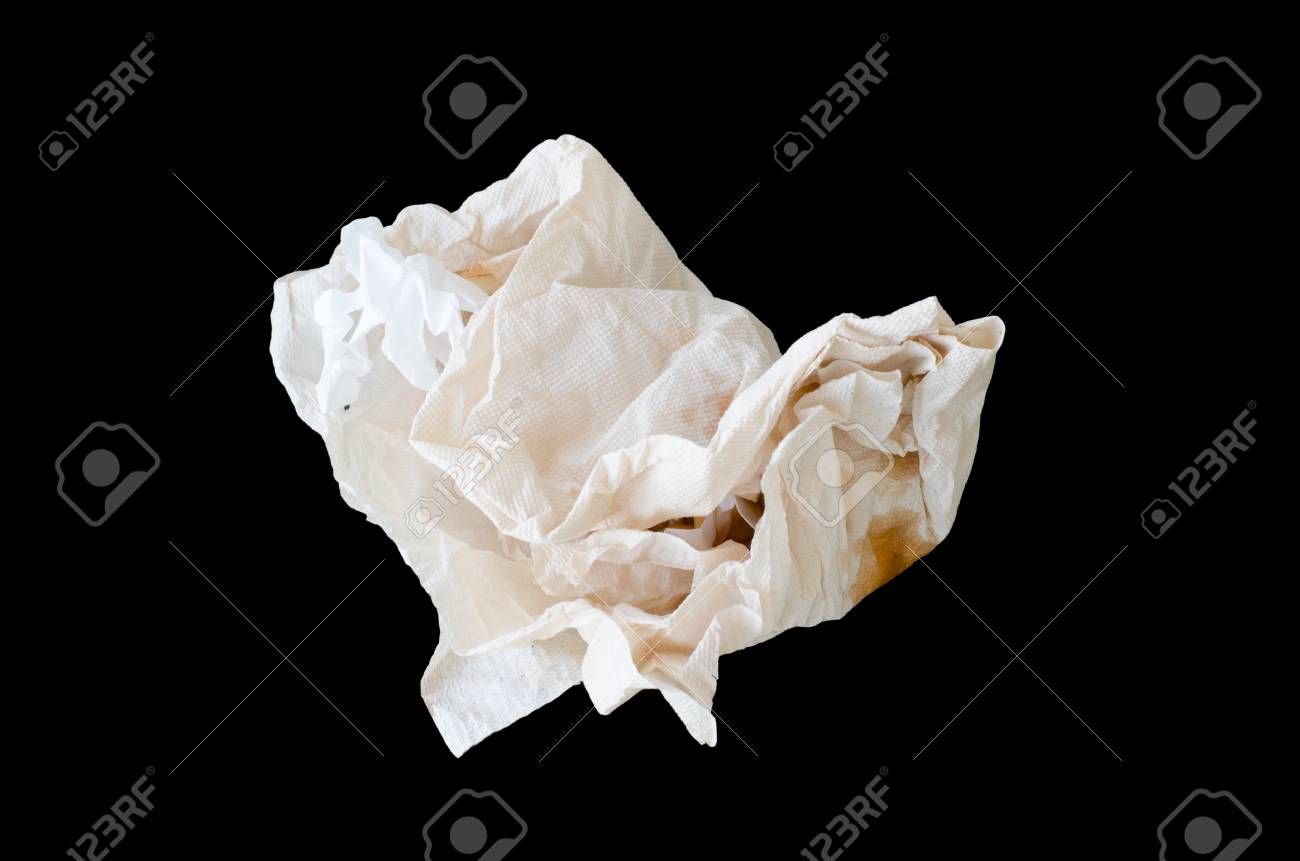Tissue: (263, 126, 1008, 763)
